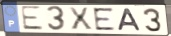3: (45, 5, 67, 31), (142, 7, 163, 33)
A: (117, 7, 143, 32)
E: (19, 5, 45, 31), (91, 7, 117, 31)
X: (67, 6, 94, 31)
